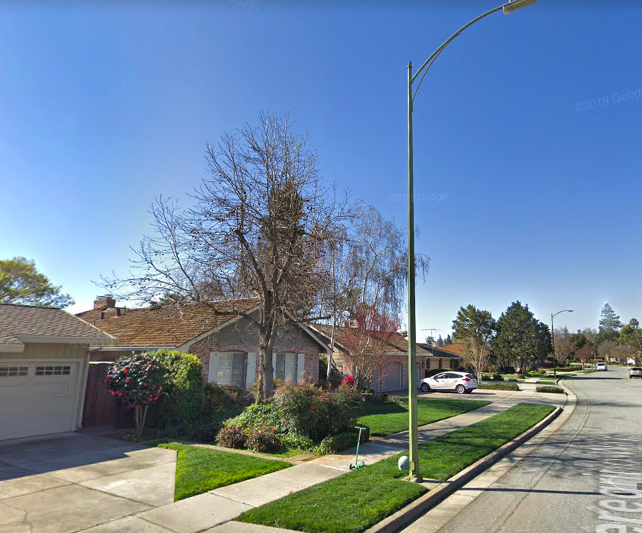tree: (90, 106, 431, 403)
